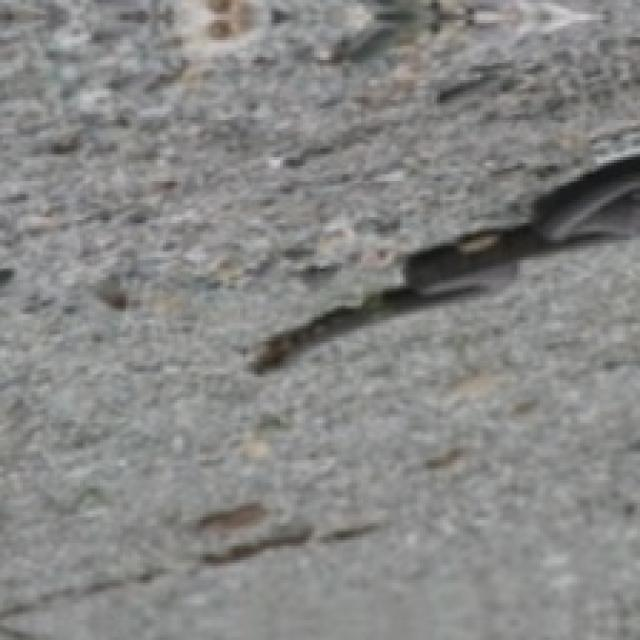king cobra: (250, 157, 640, 373)
